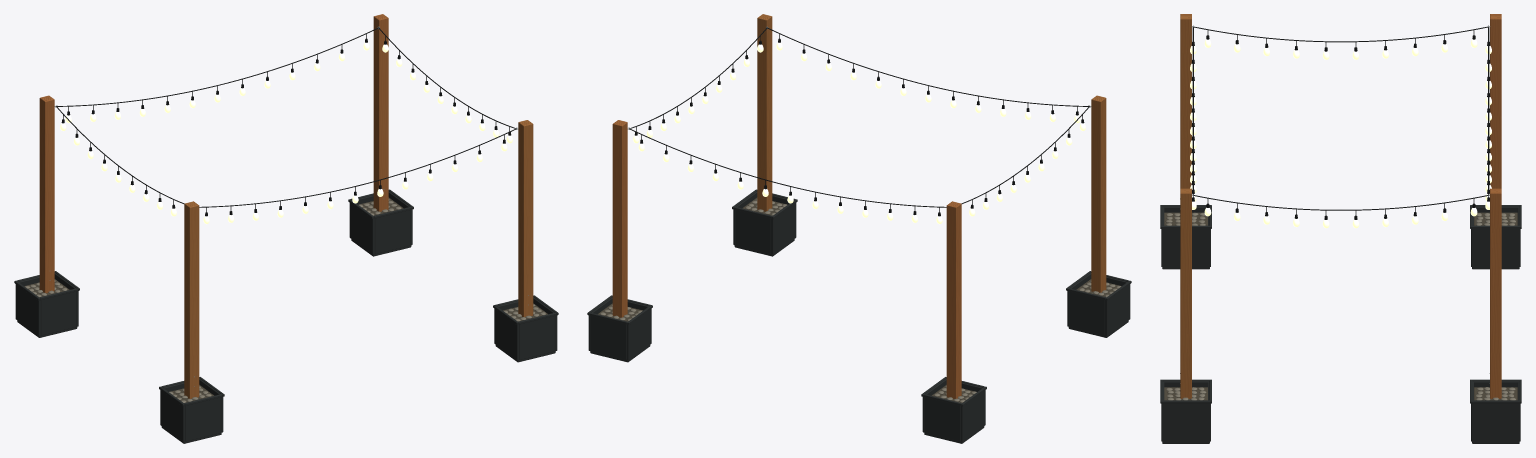
Rendered from cedar-post-string-lights.glb.
The picture shows the model from 3 angles, left to right: view 1: azimuth 30°, elevation 25°; view 2: azimuth 150°, elevation 25°; view 3: azimuth 270°, elevation 25°; orthographic projection. The views are drawn at different scales.
Parts seen in each view (by area): view 1: cedar_vertical_grain, charcoal_powder_coated_planters, black_weatherproof_cable_and_sockets, lit_warm_white_edison_glass, natural_gravel_top_dressing, recessed_planter_ballast; view 2: cedar_vertical_grain, charcoal_powder_coated_planters, black_weatherproof_cable_and_sockets, lit_warm_white_edison_glass, natural_gravel_top_dressing, recessed_planter_ballast; view 3: charcoal_powder_coated_planters, cedar_vertical_grain, black_weatherproof_cable_and_sockets, lit_warm_white_edison_glass, natural_gravel_top_dressing, recessed_planter_ballast.
Part boxes in pixels (bbox=[...]): cedar_vertical_grain: bbox=[39, 14, 533, 398]; charcoal_powder_coated_planters: bbox=[14, 189, 558, 443]; black_weatherproof_cable_and_sockets: bbox=[56, 27, 516, 216]; lit_warm_white_edison_glass: bbox=[60, 42, 512, 224]; natural_gravel_top_dressing: bbox=[25, 199, 545, 402]; recessed_planter_ballast: bbox=[24, 197, 547, 402]; cedar_vertical_grain: bbox=[612, 14, 1106, 398]; charcoal_powder_coated_planters: bbox=[587, 189, 1131, 443]; black_weatherproof_cable_and_sockets: bbox=[629, 27, 1089, 216]; lit_warm_white_edison_glass: bbox=[633, 42, 1085, 224]; natural_gravel_top_dressing: bbox=[600, 199, 1120, 402]; recessed_planter_ballast: bbox=[598, 197, 1121, 402]; charcoal_powder_coated_planters: bbox=[1160, 205, 1521, 443]; cedar_vertical_grain: bbox=[1180, 14, 1501, 398]; black_weatherproof_cable_and_sockets: bbox=[1191, 26, 1490, 219]; lit_warm_white_edison_glass: bbox=[1190, 39, 1491, 228]; natural_gravel_top_dressing: bbox=[1165, 212, 1515, 400]; recessed_planter_ballast: bbox=[1164, 212, 1517, 400].
Size of the model in its own units: 4.5 by 2.6 by 3.5.
Materials: 7 (2 with a texture image).
